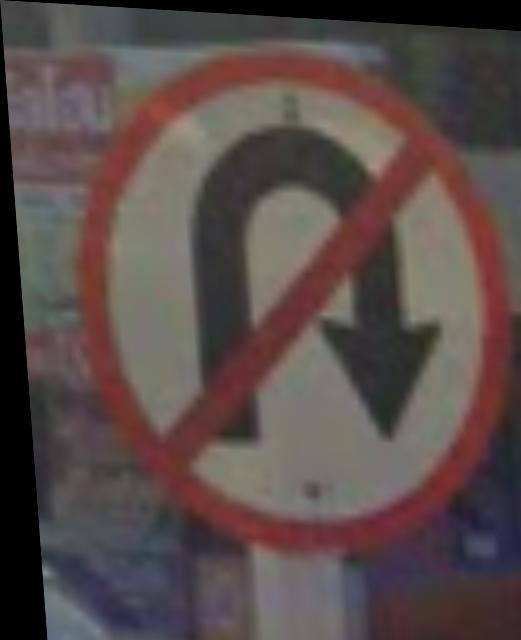not_u_turn_right: (66, 35, 521, 561)
